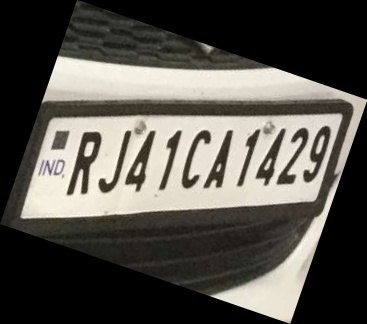character: (96, 129, 133, 193), (65, 131, 100, 195), (124, 130, 157, 193), (201, 129, 235, 189), (276, 128, 310, 184), (180, 129, 212, 188), (254, 128, 285, 185), (302, 125, 331, 183), (235, 128, 262, 187), (158, 130, 181, 190)
